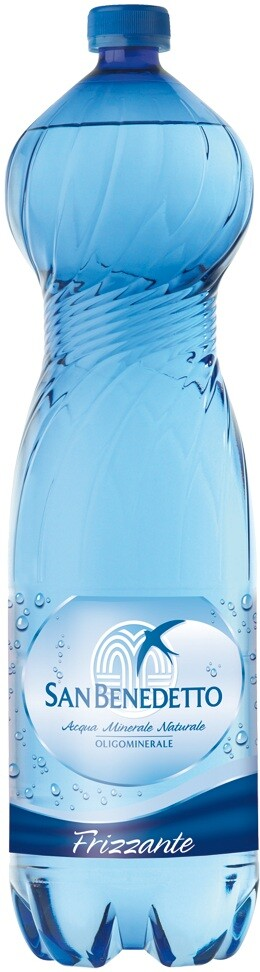PlasticBottle: (7, 3, 260, 967)
